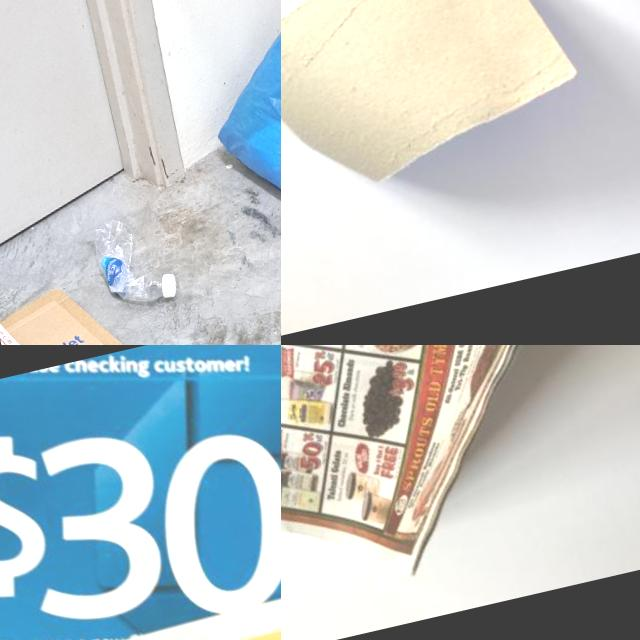garrafa plástica: (90, 212, 166, 310)
papel: (281, 345, 640, 631), (0, 345, 281, 640), (281, 0, 593, 206)
papelão: (0, 235, 281, 345)
sacola plástica: (194, 0, 281, 246)
tampa plástica: (160, 272, 180, 298)
